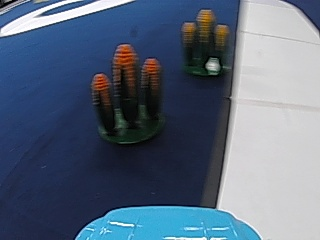corn: (89, 49, 165, 147), (182, 9, 228, 75)
